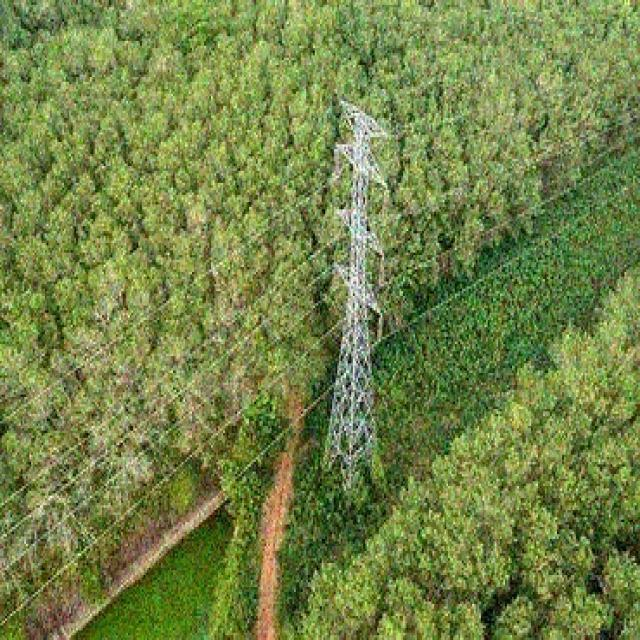utility poles: (306, 91, 409, 501)
